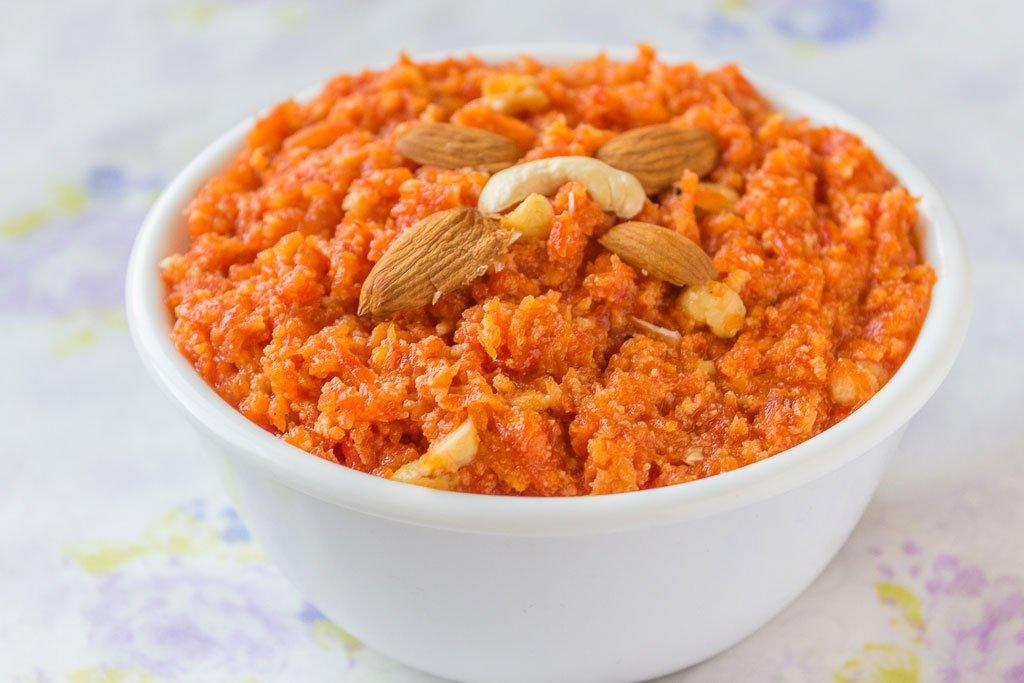Gajar ka halwa: (127, 37, 991, 506)
